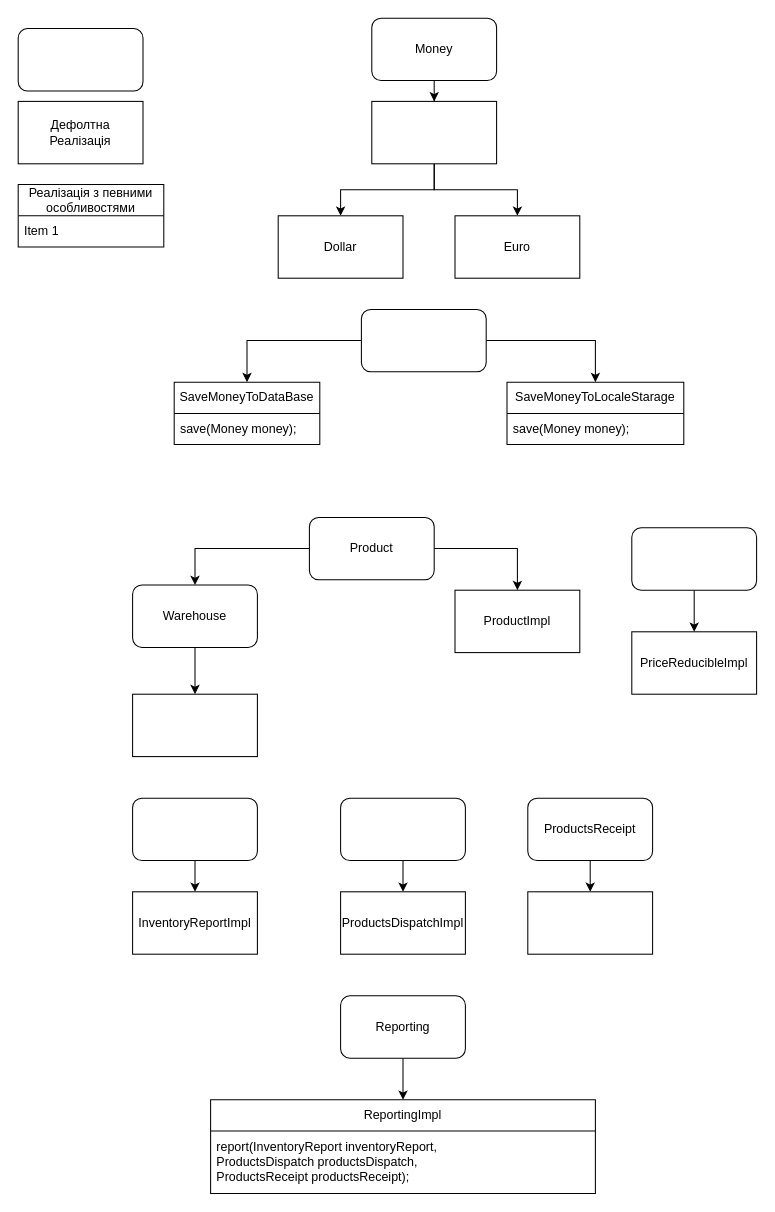
Some shapes in this 775 by 1212 pixel diagram are drawn without their labels. Here are the shapes that lost their labels. From the top down, the centre of each, then its label:
the point at 80,59: Інтерфейс
the point at 434,132: MoneyImpl
the point at 423,340: SaveMoney
the point at 694,558: PriceReducible
the point at 194,725: WarehouseImpl
the point at 194,829: InventoryReport
the point at 402,829: ProductsDispatch
the point at 590,922: ProductsReceiptImpl
